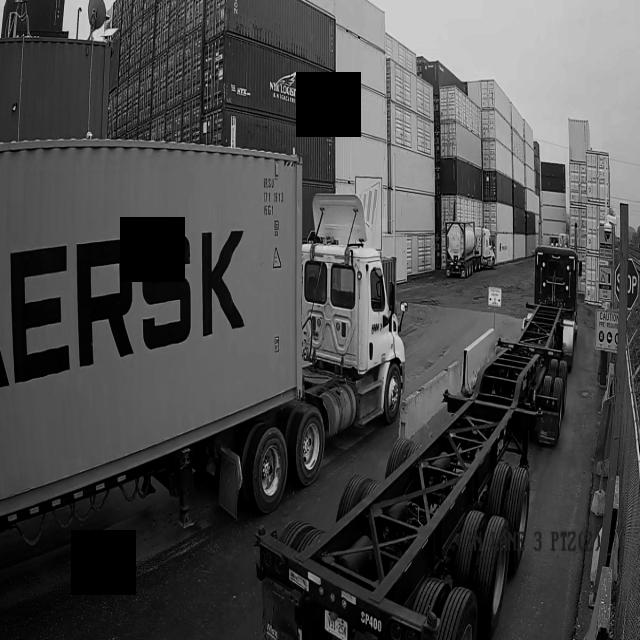container_company_logo: (0, 220, 253, 400)
container_number: (257, 170, 293, 230)
label_name: (319, 600, 356, 640)
truck_with_container: (0, 140, 405, 531), (256, 248, 579, 640)
